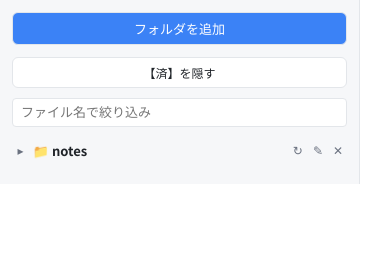
Sidebar › 「【済】を隠す」で【済】ファイルを一覧から除外し、再押下で再表示する
This screenshot has width=377, height=253.
Step 1. Click the button named "notes を展開する" → (20, 150), box [12, 142, 29, 160]
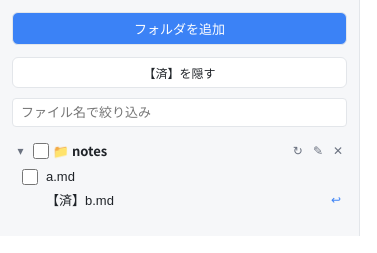
Expected: the button "【済】b.md" is shown, [40, 187, 323, 212]
Step 2. Click the button "【済】を隠す" → (180, 72), box [12, 57, 347, 88]
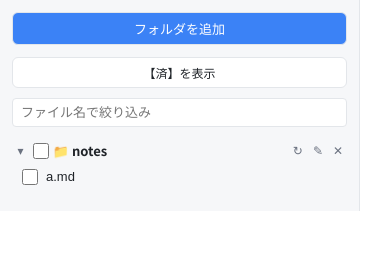
Expected: the button "a.md" is shown, [40, 166, 321, 187]
Expected: the button "【済】b.md" is gone
Step 3. Click the button "【済】を表示" → (180, 72), box [12, 57, 347, 88]
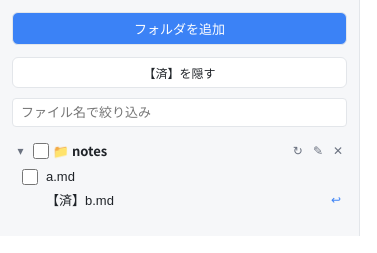
Expected: the button "【済】b.md" is shown, [40, 187, 323, 212]
